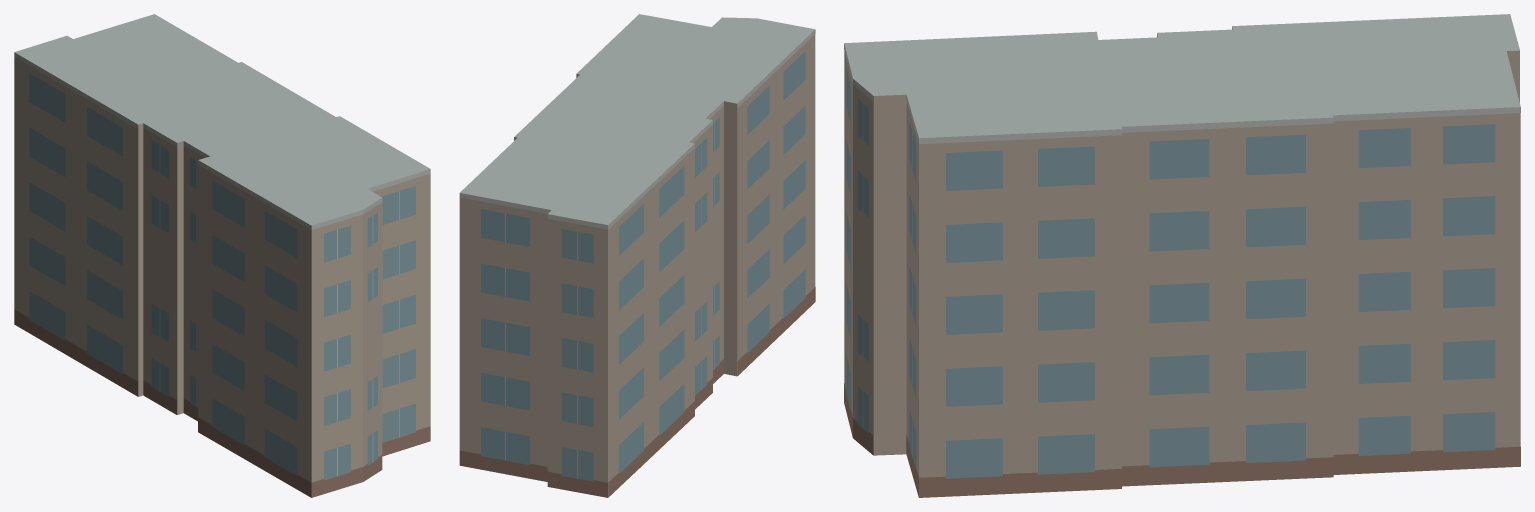
File: survey-upis-32702090.glb
The picture shows the model from 3 angles, left to right: view 1: azimuth 30°, elevation 25°; view 2: azimuth 150°, elevation 25°; view 3: azimuth 270°, elevation 25°; orthographic projection. The views are drawn at different scales.
Parts seen in each view (by area): view 1: survey-upis-32702090.tmp; view 2: survey-upis-32702090.tmp; view 3: survey-upis-32702090.tmp.
Boxes of the visible parts, box(x1,y1,x2,y2) form: survey-upis-32702090.tmp: box(14, 14, 430, 497); survey-upis-32702090.tmp: box(459, 14, 815, 497); survey-upis-32702090.tmp: box(844, 14, 1520, 497).
Bounding box in the file's own units: 10.82 × 14.6 × 24.91.
